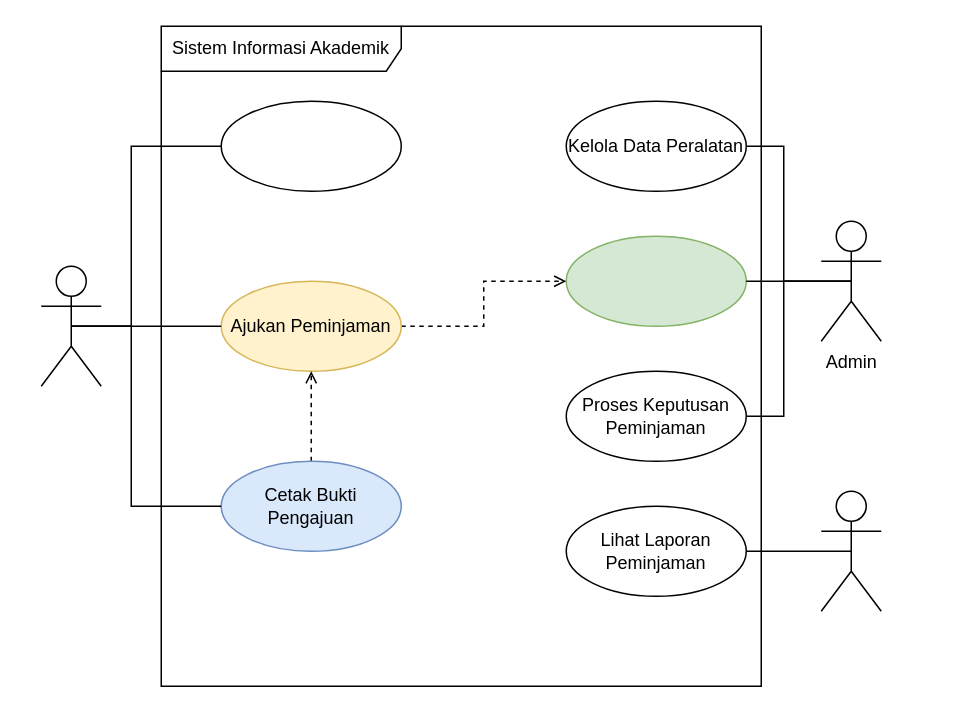
Image size: 959x713. Some labels were removed from this diagram. Here are the shapes that lost their labels. From the top down, the centre of each, then its label:
point 310,145: Lihat Ketersediaan peralatan
point 655,280: Periksa Ketersediaan
point 70,325: Mahasiswa
point 850,550: Kepala Labolatorium
